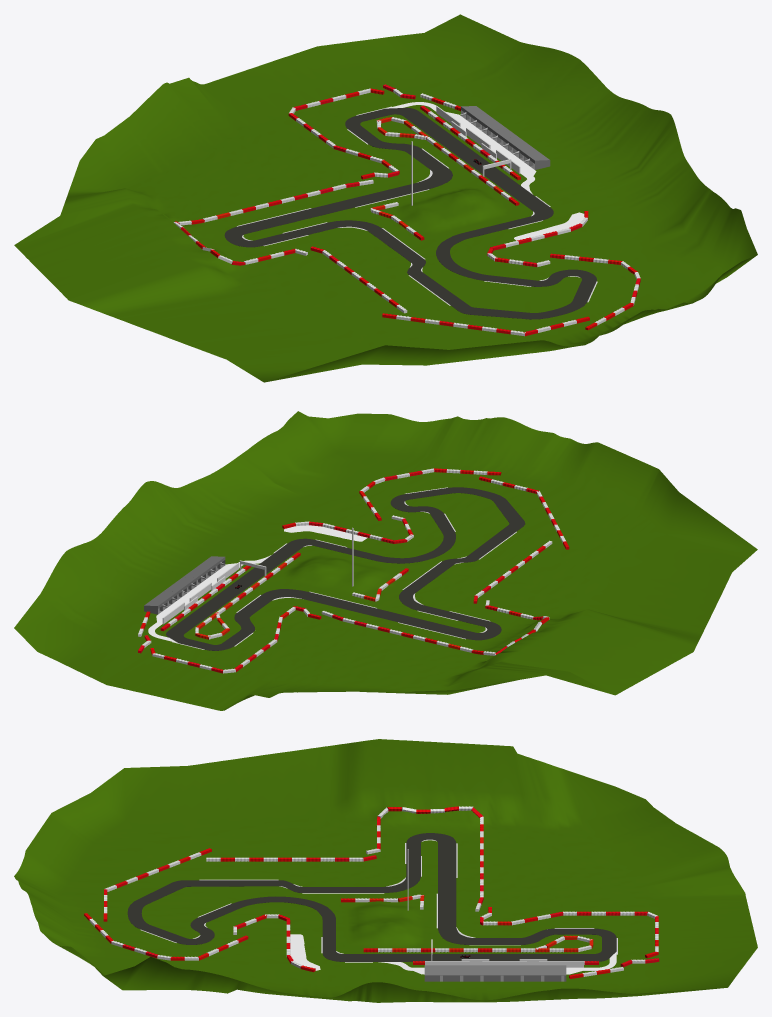
Rendered from taas-circuit.glb.
The picture shows the model from 3 angles, top to bottom: view 1: azimuth 30°, elevation 25°; view 2: azimuth 150°, elevation 25°; view 3: azimuth 270°, elevation 25°; orthographic projection. The views are drawn at different scales.
Parts seen in each view (by area): view 1: Grass, track, Pitlane; view 2: Grass, track, Pitlane, Grass.001; view 3: Grass, track, Grass.001, Pitlane.
Part boxes in pixels (box(x1,y1,x2,y2)): Grass: box(14, 14, 757, 382); track: box(224, 107, 596, 319); Pitlane: box(386, 102, 536, 194); Grass: box(14, 411, 757, 710); track: box(166, 487, 525, 650); Pitlane: box(148, 555, 271, 642); Grass.001: box(284, 525, 367, 541); Grass: box(14, 739, 757, 1002); track: box(127, 833, 616, 961); Grass.001: box(290, 934, 320, 970); Pitlane: box(378, 952, 616, 974).
Size of the model in its own units: 292 by 31.46 by 327.
